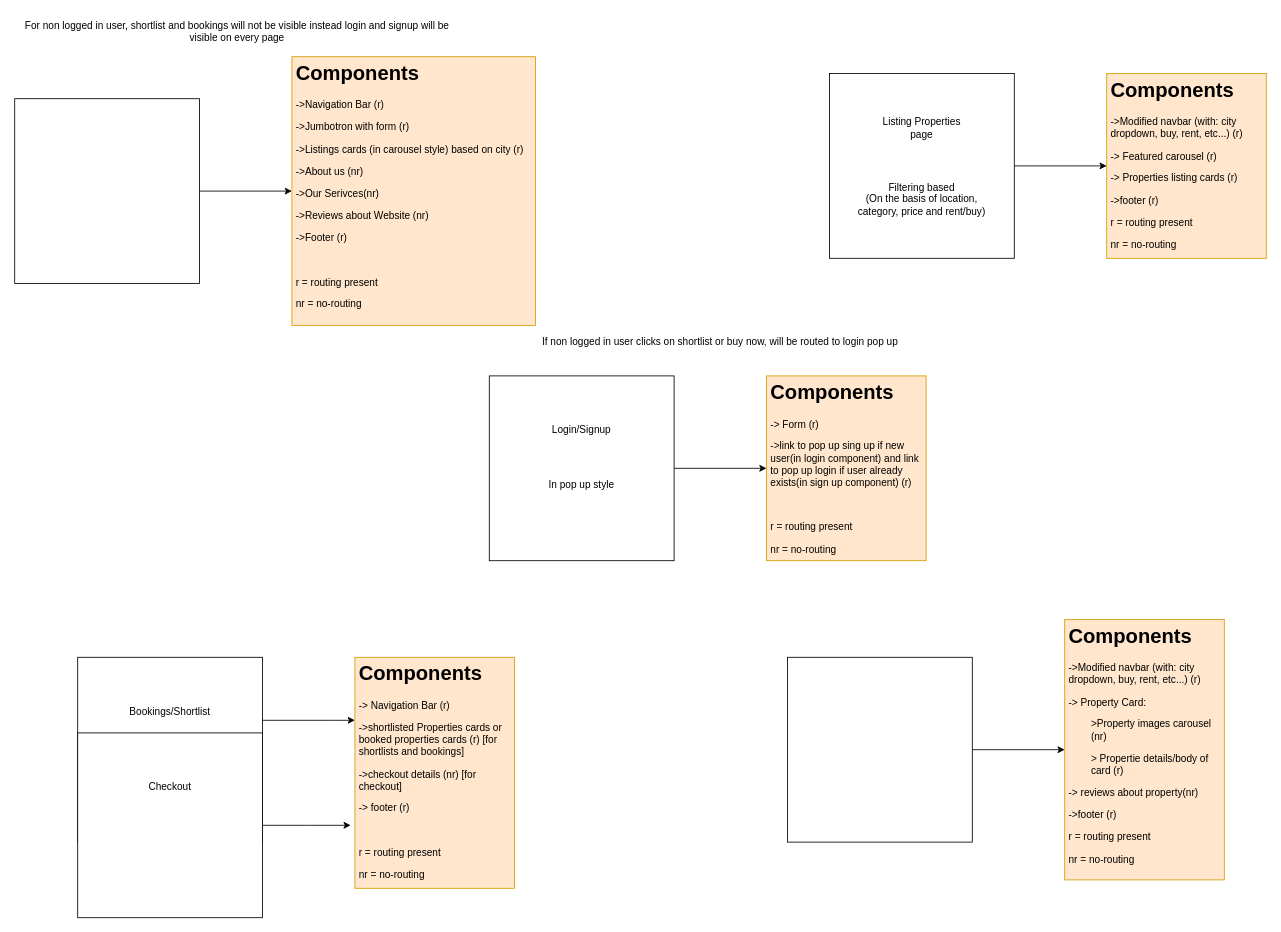
This 1281x932 diagram has some shape labels left out. The shapes that lost their labels are listed below. From the top down, each one's box as (x1, y1, x2, y2) in pixels, then its label:
(14, 98, 200, 284): Home Page
(787, 656, 972, 842): Property (Buying) Page
